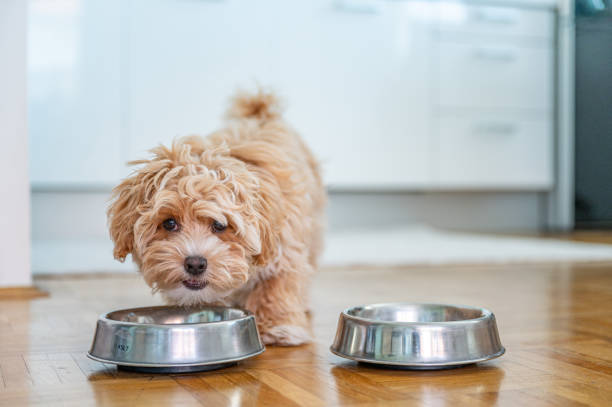Bowl: (88, 305, 274, 377)
